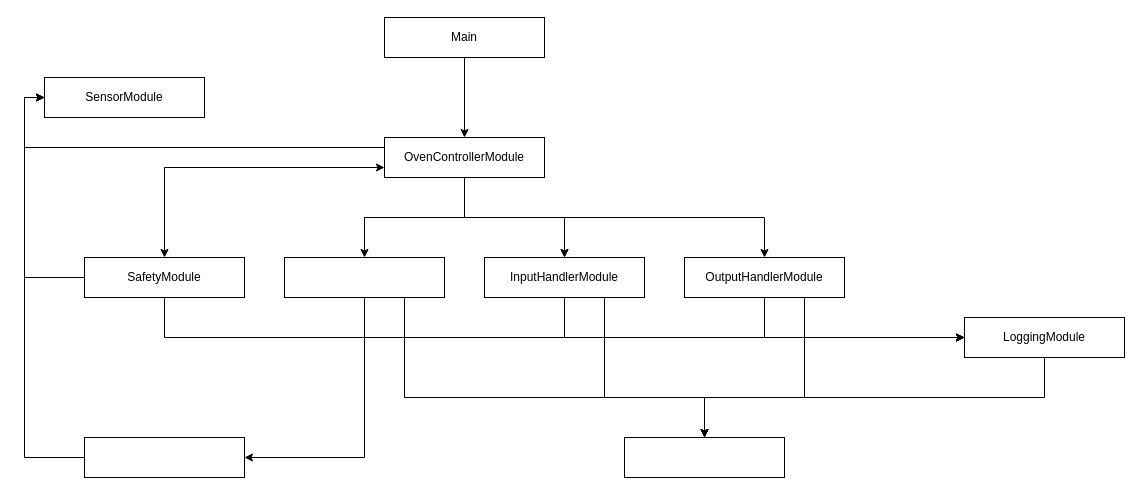
Some shapes in this 1142 by 495 pixel diagram are drawn without their labels. The box of each missing label's shape, as (x1, y1, x2, y2) in pixels:
GlobalModels: (624, 436, 784, 478)
ModeControllModule: (284, 256, 444, 298)
ThermalControllModule: (84, 436, 244, 478)
